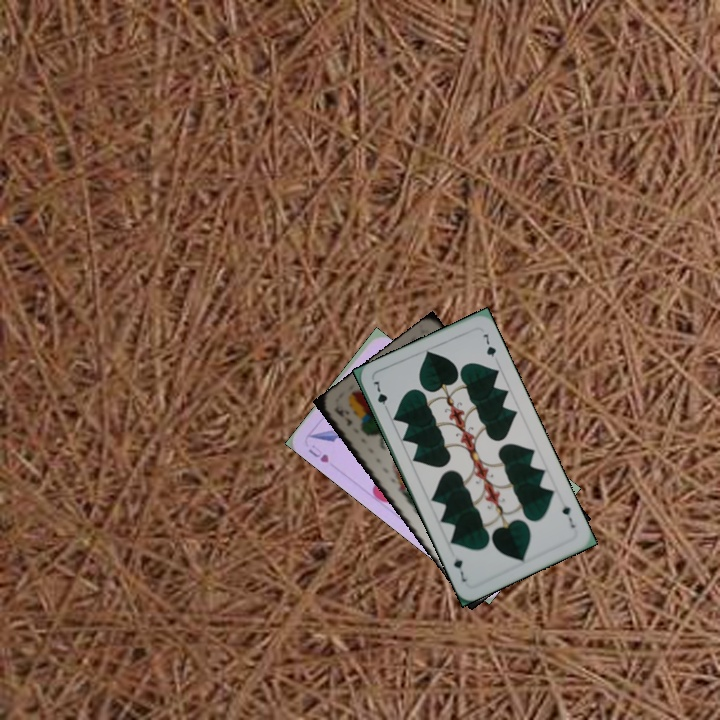EK: (330, 401, 355, 429)
G7: (369, 377, 390, 415), (558, 497, 578, 530)
HU: (304, 440, 332, 465)
